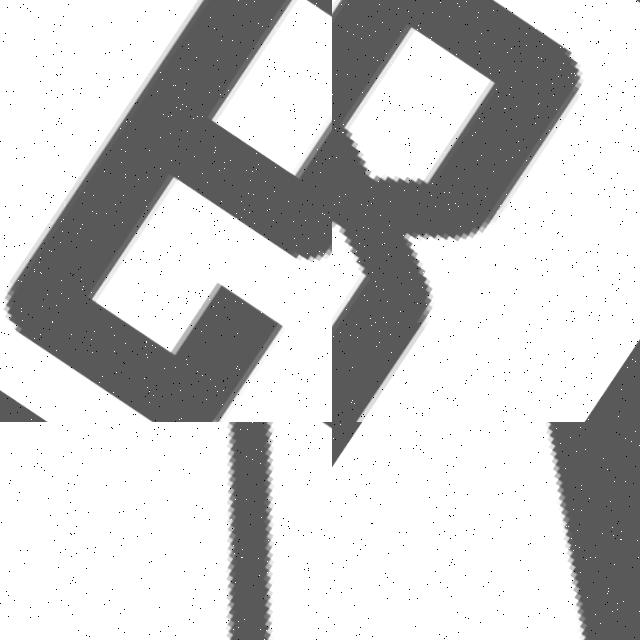8: (332, 0, 625, 422)
9: (0, 0, 332, 422)
Z: (0, 422, 332, 640), (332, 422, 640, 640)
